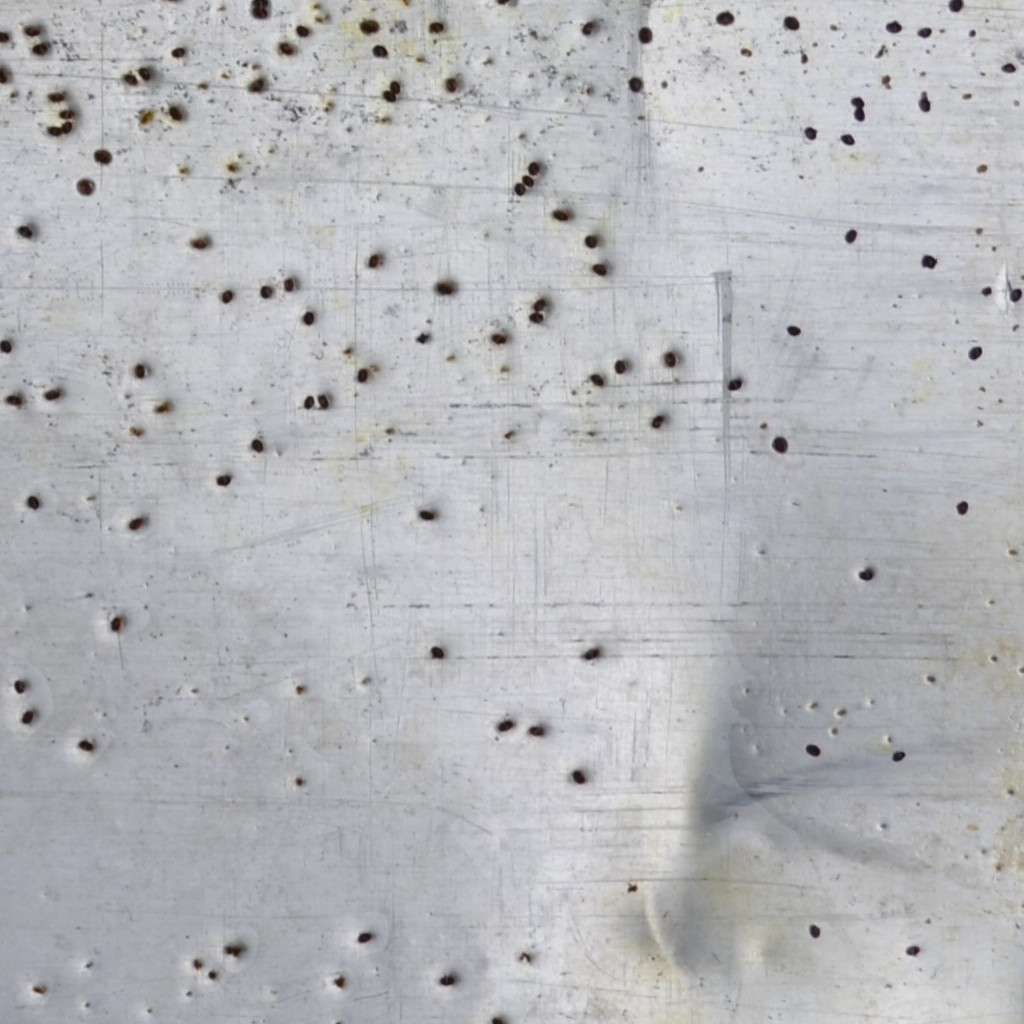varroa: (75, 174, 97, 199), (357, 17, 382, 37), (770, 433, 790, 455), (93, 148, 113, 167), (30, 39, 50, 58), (433, 279, 454, 297), (167, 104, 185, 125), (637, 24, 654, 46), (580, 643, 599, 662), (782, 13, 800, 33), (724, 375, 742, 395), (16, 222, 36, 240), (569, 766, 588, 784), (551, 205, 569, 224), (76, 737, 94, 756), (715, 9, 735, 26), (429, 643, 446, 663), (4, 391, 22, 409), (919, 253, 938, 270), (856, 565, 875, 582), (803, 741, 822, 758), (527, 722, 546, 739), (356, 929, 375, 946), (662, 348, 678, 368), (613, 357, 629, 377), (190, 234, 210, 250), (42, 387, 62, 403), (966, 344, 983, 362), (278, 40, 295, 58), (419, 506, 437, 523), (588, 370, 604, 389), (884, 19, 904, 34), (584, 232, 599, 252), (108, 614, 123, 634), (21, 21, 41, 36), (302, 307, 316, 328), (497, 717, 514, 734), (627, 76, 644, 93), (526, 159, 542, 177), (127, 515, 143, 533), (999, 60, 1018, 75), (490, 330, 509, 345), (807, 922, 821, 942), (437, 973, 457, 987), (316, 389, 330, 409), (259, 283, 273, 303), (914, 26, 935, 39), (891, 748, 907, 765), (591, 261, 607, 278), (650, 413, 667, 429), (427, 18, 444, 34), (579, 19, 595, 36), (19, 709, 35, 726), (850, 94, 868, 109), (954, 498, 969, 516), (904, 943, 922, 958), (371, 44, 389, 59), (220, 287, 234, 306), (302, 393, 315, 413), (915, 96, 931, 112), (839, 130, 855, 146), (382, 88, 398, 104), (295, 23, 311, 39), (47, 88, 63, 104), (843, 228, 858, 245), (532, 295, 547, 312), (366, 252, 381, 269), (123, 71, 138, 88), (215, 473, 233, 487), (170, 46, 188, 60), (133, 362, 147, 380), (946, 0, 966, 12), (803, 125, 819, 140), (786, 322, 801, 338), (0, 337, 12, 357), (1009, 286, 1023, 303), (512, 179, 526, 196), (444, 75, 458, 92), (282, 277, 296, 294), (59, 107, 76, 121), (45, 123, 62, 137), (251, 5, 269, 18), (26, 493, 39, 511), (355, 366, 368, 384), (138, 65, 151, 83), (852, 106, 866, 122), (0, 26, 10, 48), (521, 174, 536, 188), (529, 310, 544, 324), (13, 678, 28, 692), (59, 121, 73, 135), (389, 79, 402, 94), (0, 68, 8, 87), (490, 1015, 503, 1023)
